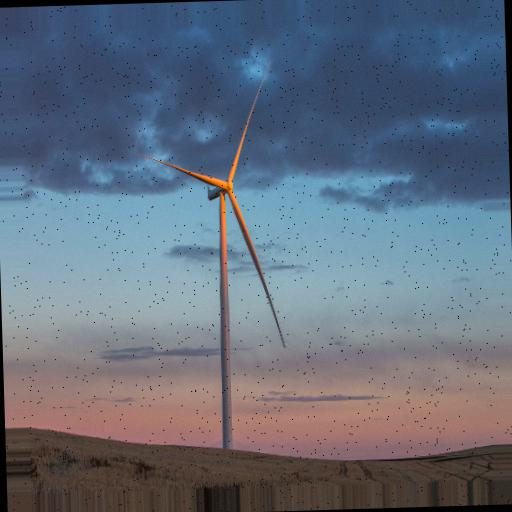wind turbine: (138, 65, 288, 454)
